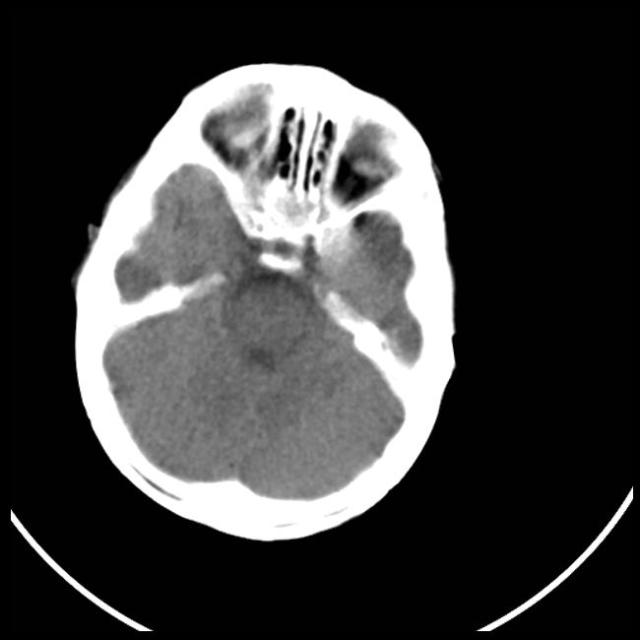lesion: (70, 59, 461, 542)
